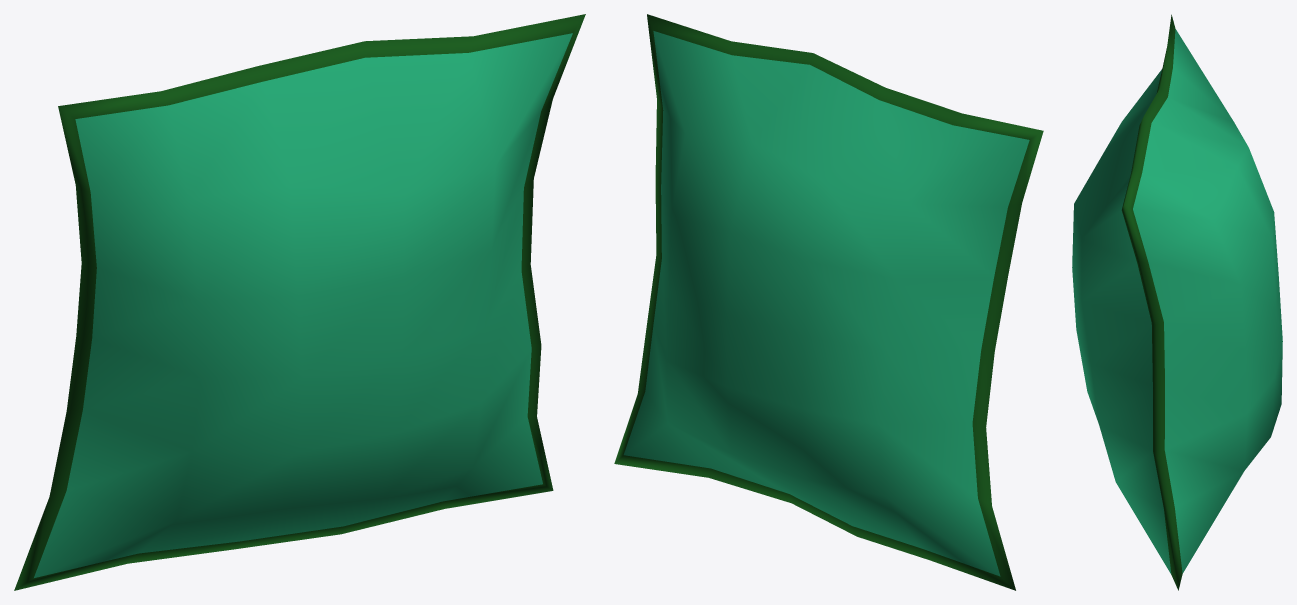
Rendered from Pillow_2.fbx.
The picture shows the model from 3 angles, left to right: view 1: azimuth 30°, elevation 25°; view 2: azimuth 150°, elevation 25°; view 3: azimuth 270°, elevation 25°; orthographic projection. The views are drawn at different scales.
Parts seen in each view (by area): view 1: Pillow_2; view 2: Pillow_2; view 3: Pillow_2.
Boxes of the visible parts, x1,y1,x2,y2 form: Pillow_2: (14,14,585,590); Pillow_2: (614,14,1043,590); Pillow_2: (1072,14,1282,590).
Size of the model in its own units: 7.25 by 7.11 by 3.42.
